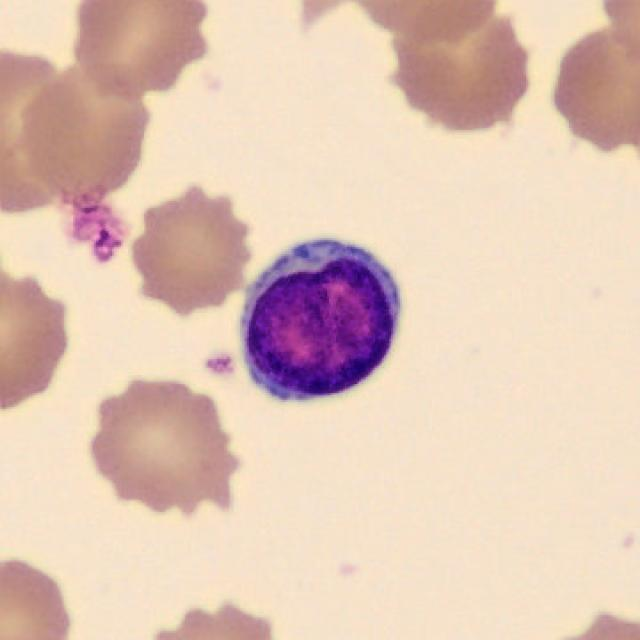Linfocito: (236, 238, 402, 402)
